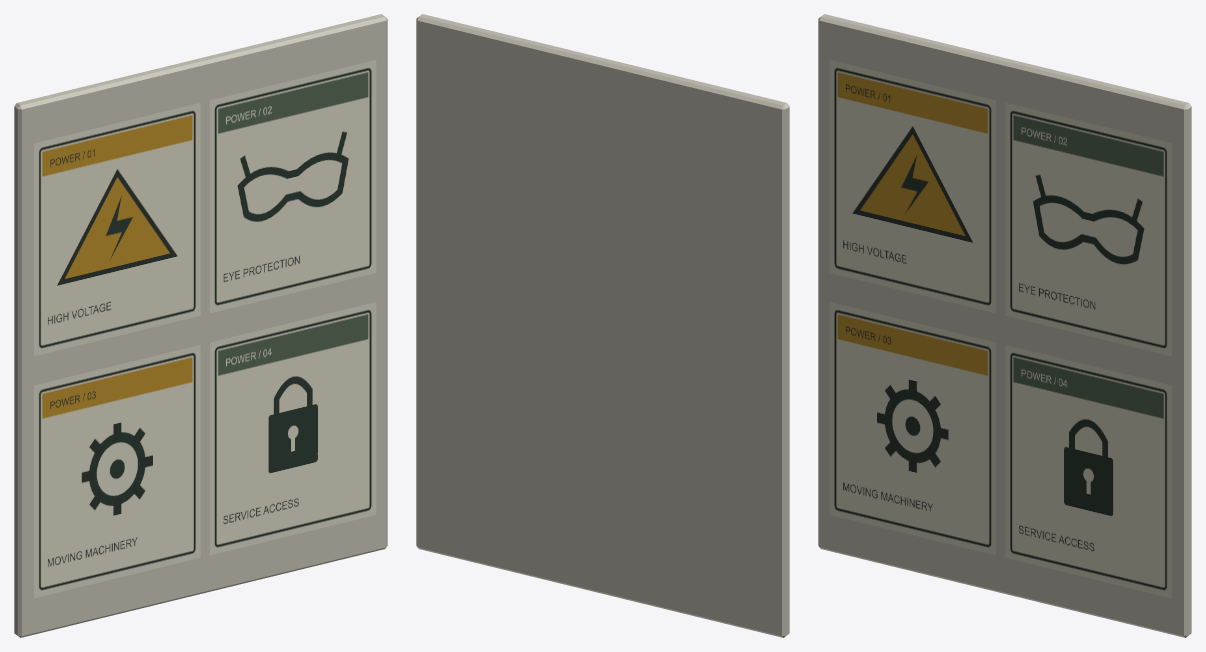
Rendered from power_safety_notice.glb.
3 renders of one model, left to right at view 1: azimuth 30°, elevation 25°; view 2: azimuth 150°, elevation 25°; view 3: azimuth 330°, elevation 25°, orthographic.
Parts seen in each view (by area): view 1: Original laboratory safety pictograms, Safety sign plate; view 2: Safety sign plate; view 3: Original laboratory safety pictograms, Safety sign plate.
Part boxes in pixels (box(x1,y1,x2,y2)): Original laboratory safety pictograms: box(34, 60, 376, 598); Safety sign plate: box(14, 14, 387, 637); Safety sign plate: box(416, 14, 789, 637); Original laboratory safety pictograms: box(829, 60, 1171, 598); Safety sign plate: box(818, 14, 1191, 637).
Size of the model in its own units: 0.8 by 1.1 by 0.0285.
2 materials, 1 textured.
